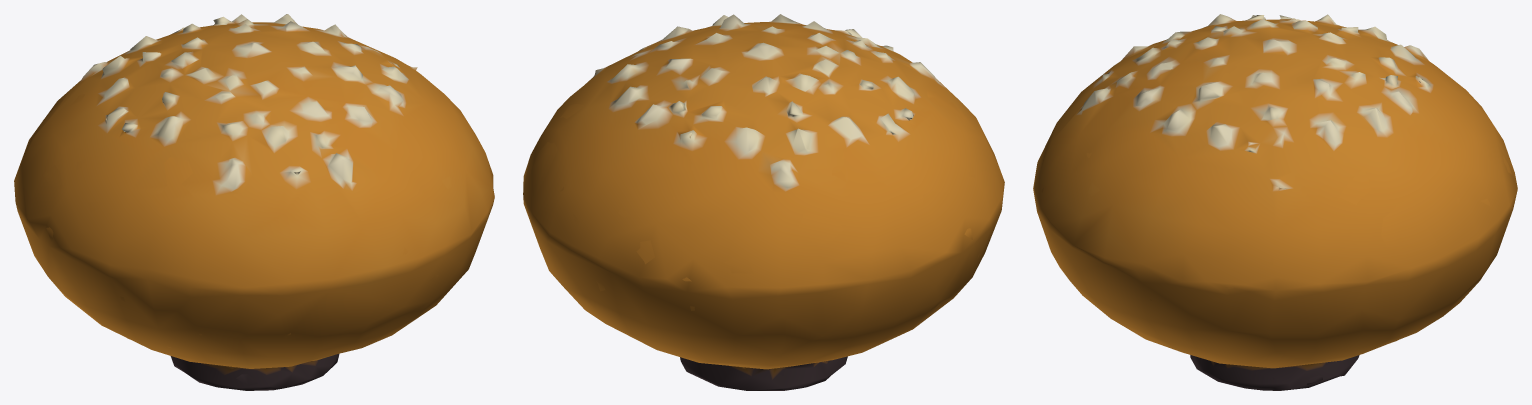
Rendered from gen3d-bun-lod0.glb.
3 renders of one model, left to right at view 1: azimuth 30°, elevation 25°; view 2: azimuth 150°, elevation 25°; view 3: azimuth 270°, elevation 25°, orthographic.
Parts seen in each view (by area): view 1: part_0; view 2: part_0; view 3: part_0.
Part boxes in pixels (left/top/right/bottom): part_0: left=14, top=14, right=494, bottom=390; part_0: left=523, top=14, right=1004, bottom=390; part_0: left=1033, top=14, right=1517, bottom=390.
Size of the model in its own units: 1.39 by 0.9995 by 1.39.
